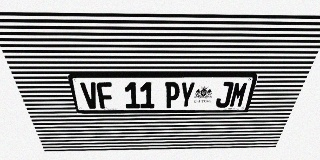1: (123, 82, 140, 108), (139, 82, 154, 108)
F: (96, 82, 115, 109)
J: (215, 82, 234, 108)
M: (229, 82, 249, 107)
P: (164, 82, 180, 108)
V: (80, 82, 100, 109)
Y: (179, 82, 196, 108)
